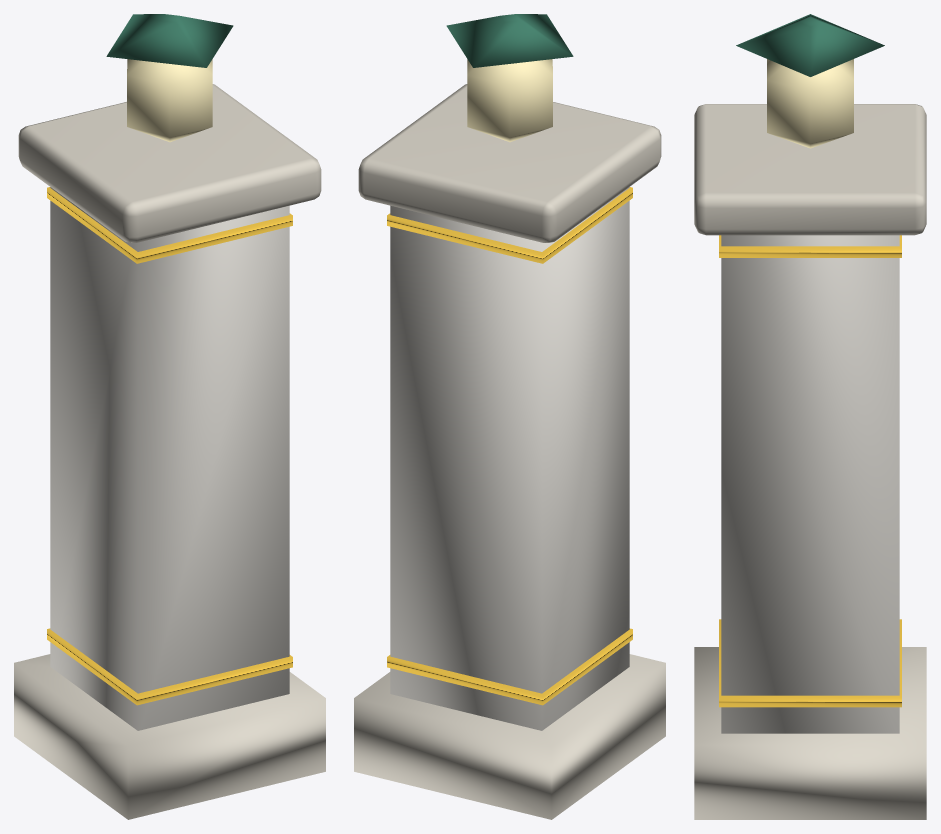
Rendered from marble_gate_pillar_low.glb.
The picture shows the model from 3 angles, left to right: view 1: azimuth 30°, elevation 25°; view 2: azimuth 150°, elevation 25°; view 3: azimuth 270°, elevation 25°; orthographic projection.
Bounding box in the file's own units: 0.9001 × 3.2 × 0.9001.
